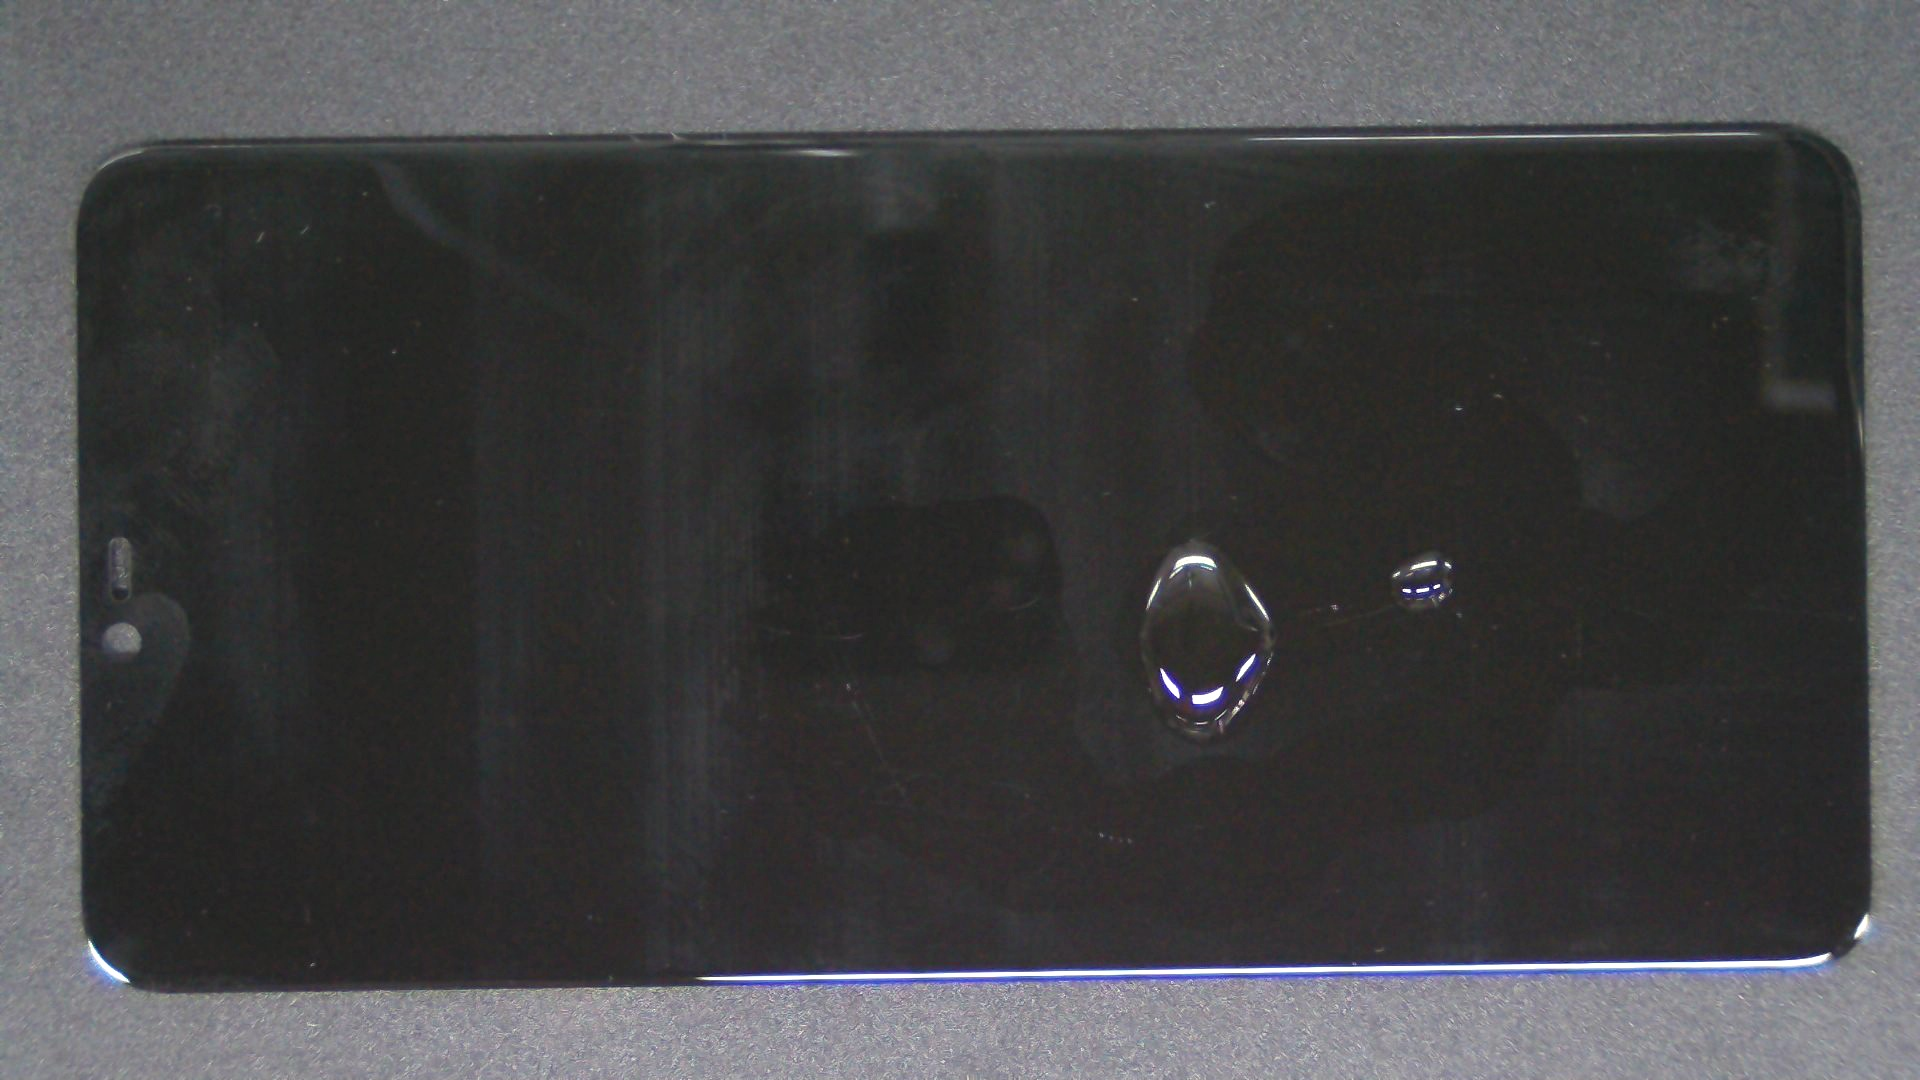oil: (717, 276, 1920, 827), (597, 268, 1791, 804)
